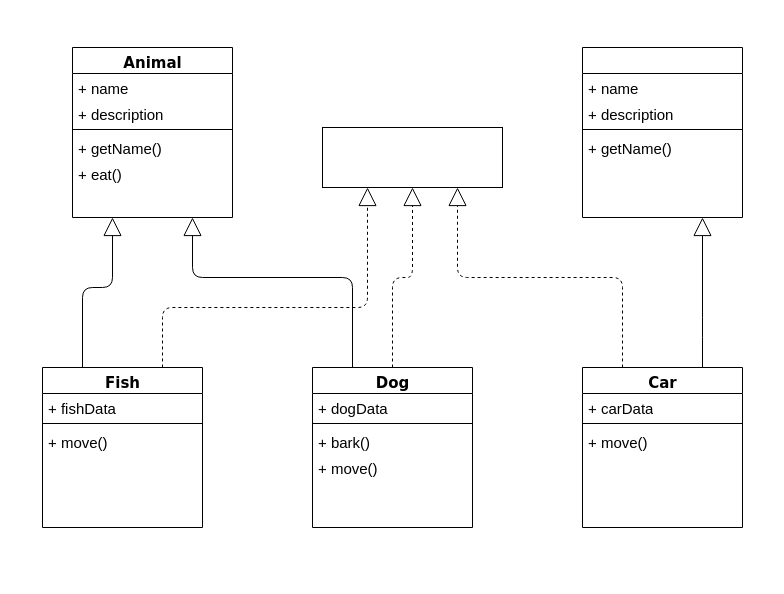
The diagram is 784 pixels wide and 594 high, and some of its shapes have lost their labels. Here are the shapes that lost their labels. From the top down, the box of each, then its label:
(582, 46, 742, 218): Machine
(322, 126, 502, 188): <interface> Move move()
